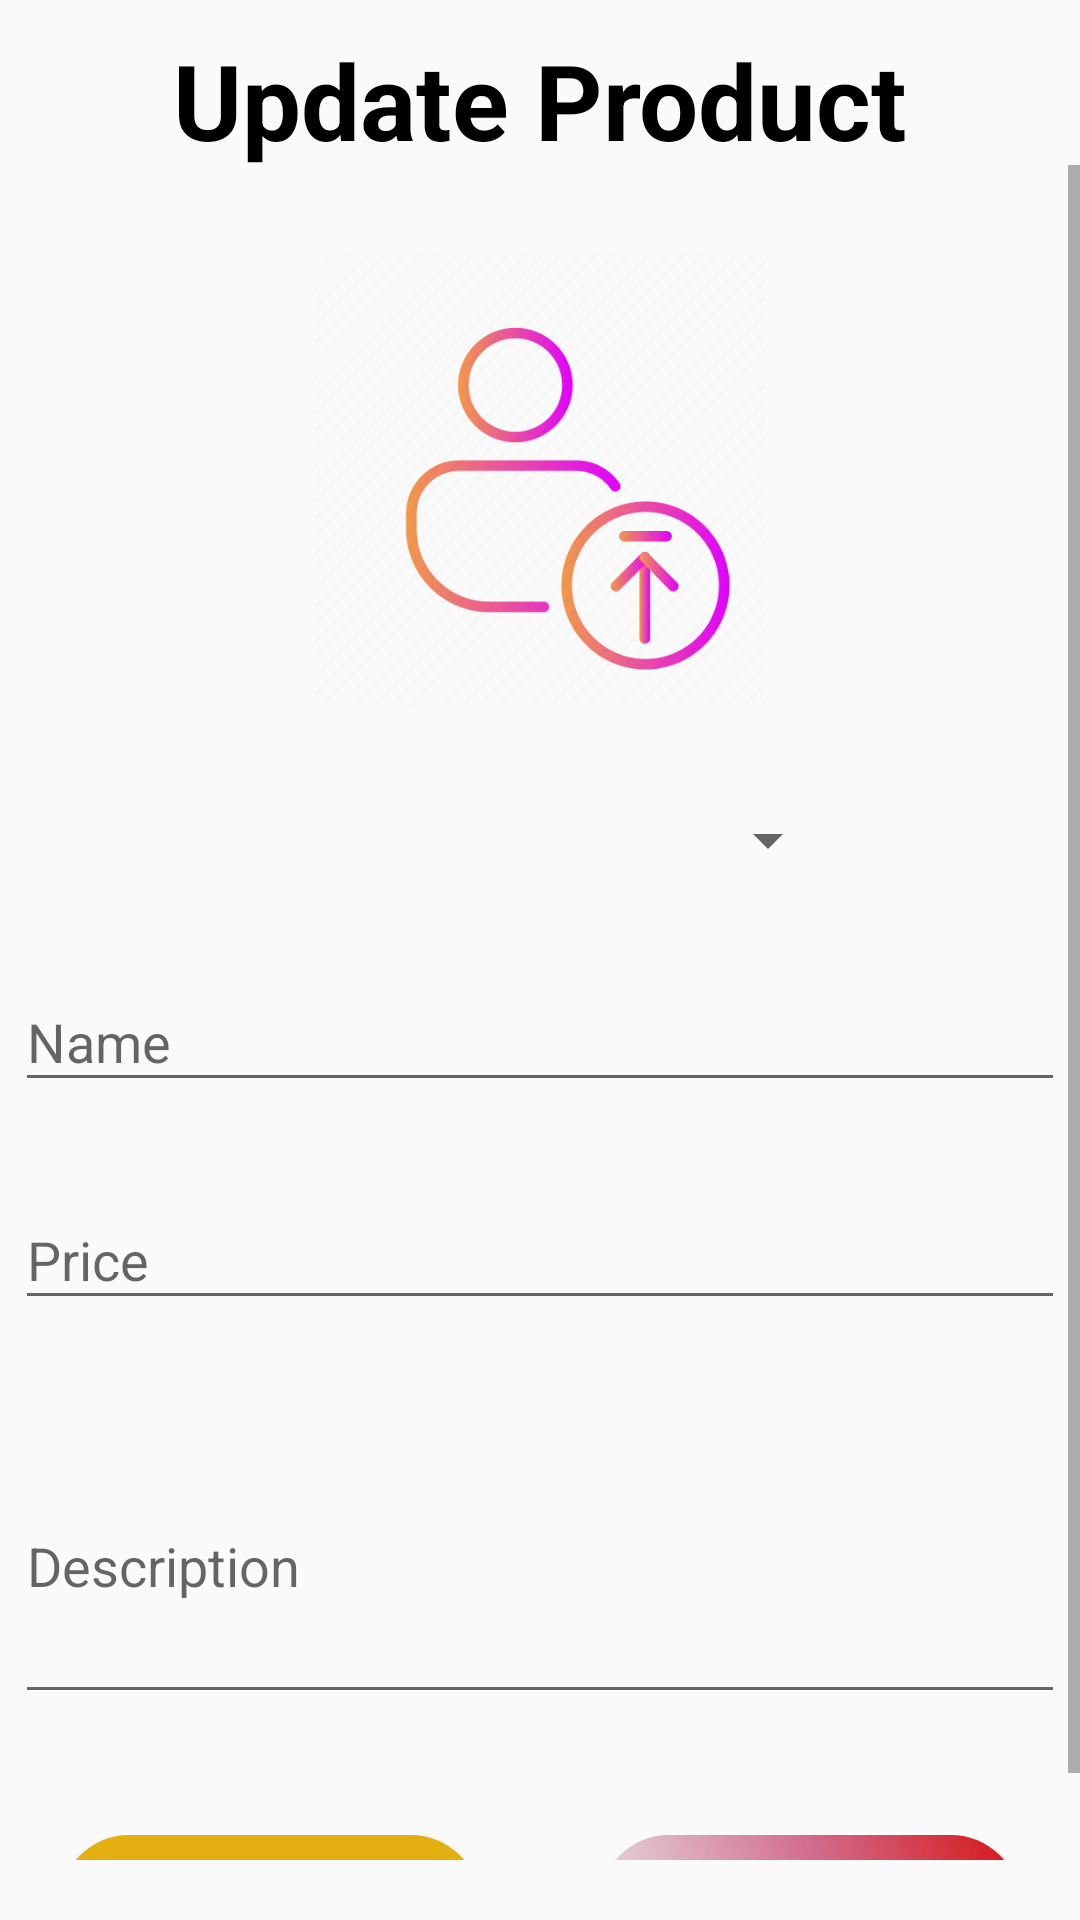

Icons on this 1080*1920 Android screen, each with its box as BBox(x1, y1, x2, y2):
profileupload: BBox(405, 327, 730, 670)
